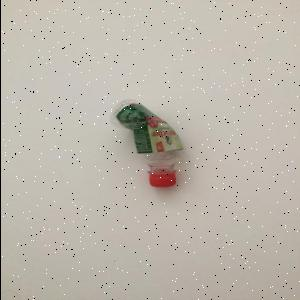Plastic-bottle: (111, 98, 185, 189)
